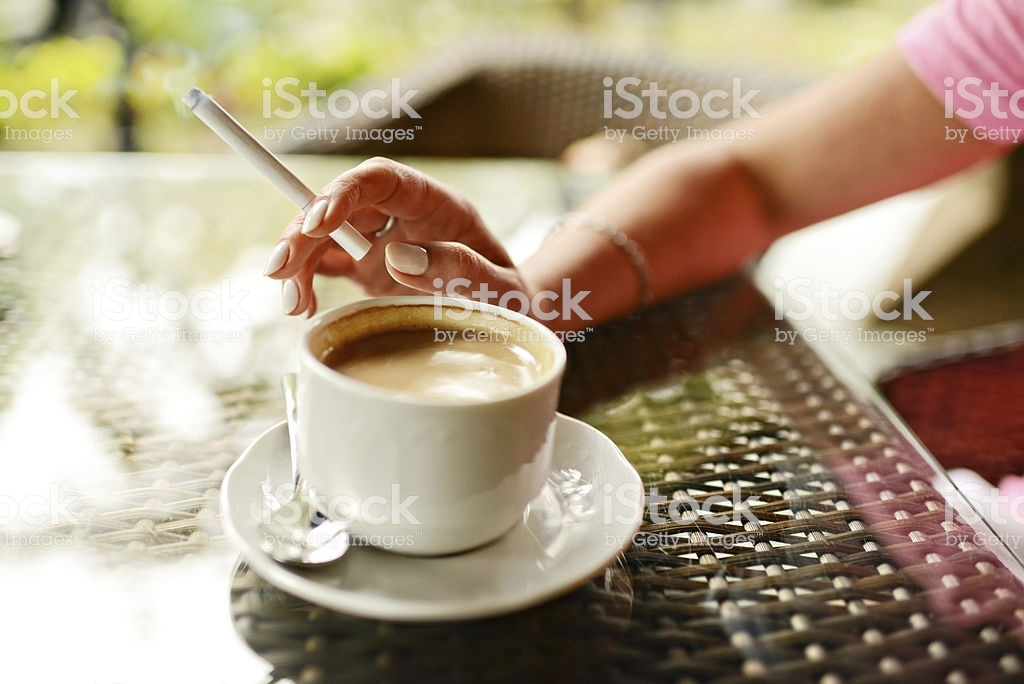sigaretta: (187, 89, 373, 258)
